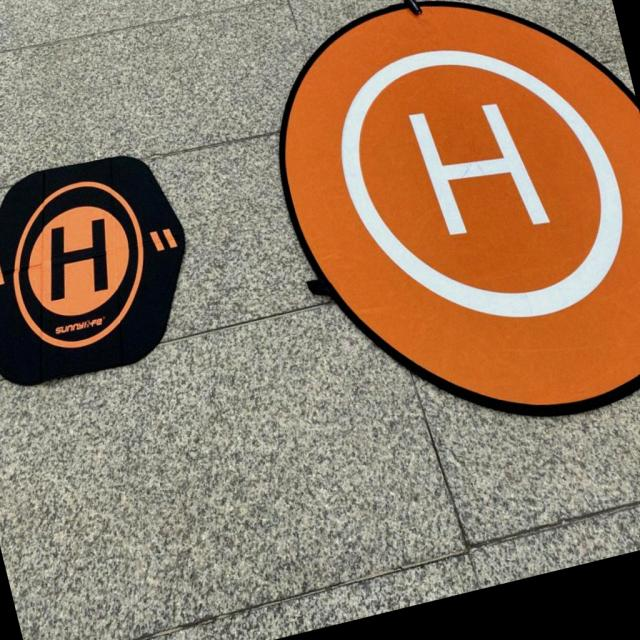helipad: (337, 42, 627, 324), (11, 176, 145, 352)
